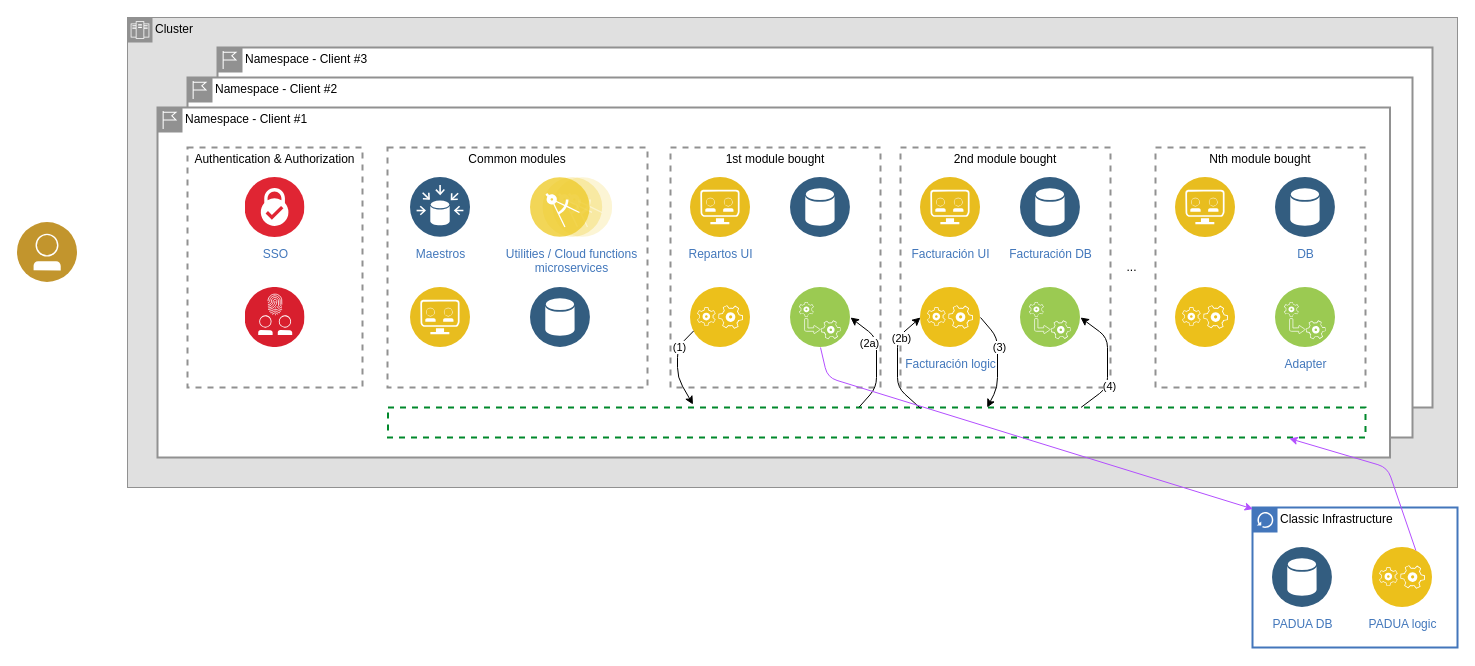
This 1475x666 diagram has some shape labels left out. The shapes that lost their labels are listed below. From the top down, each one's centre as x and y in pixels, then its label:
At (820,207): "Repartos DB".
At (1205,207): "UI".
At (274,317): "RBAC".
At (440,317): "Main UI".
At (560,317): "Common DB".
At (720,317): "Repartos logic".
At (820,317): "Repartos adapter".
At (1050,317): "Facturación adapter".
At (1205,317): "Logic".
At (876,422): "Events Stream".
